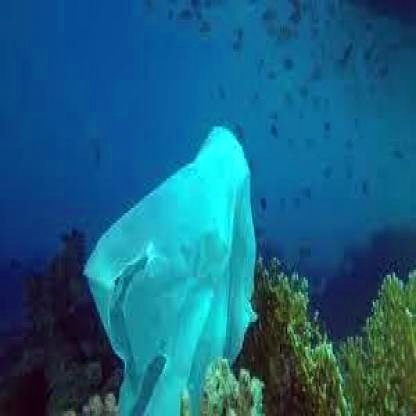pbag: (82, 121, 259, 416)
